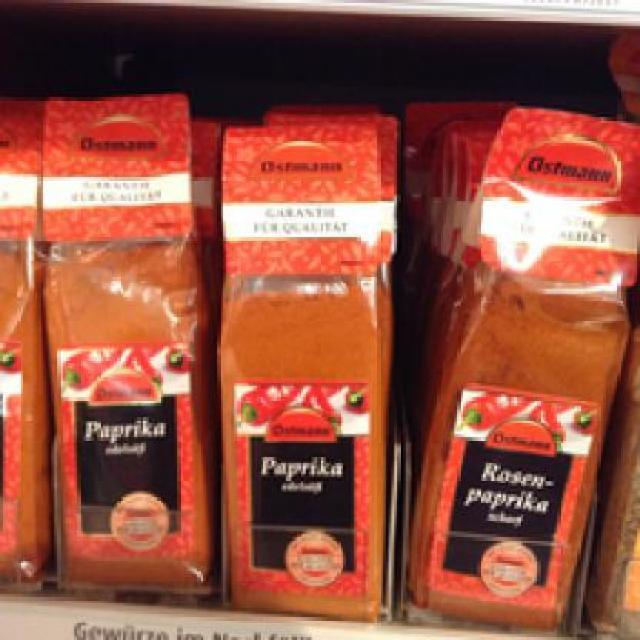Spices: (412, 100, 638, 626), (216, 114, 390, 626), (39, 91, 212, 594)
